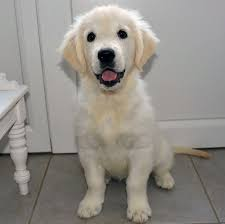dog_sitting: (58, 4, 211, 224)
